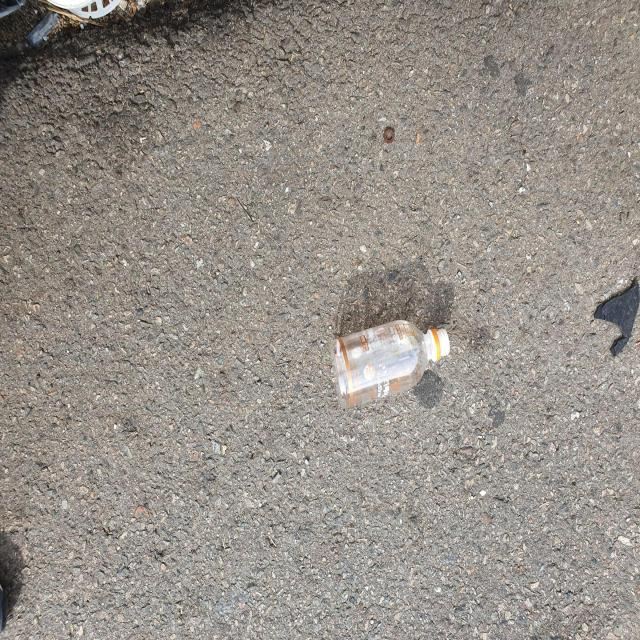plastic: (331, 320, 450, 408)
